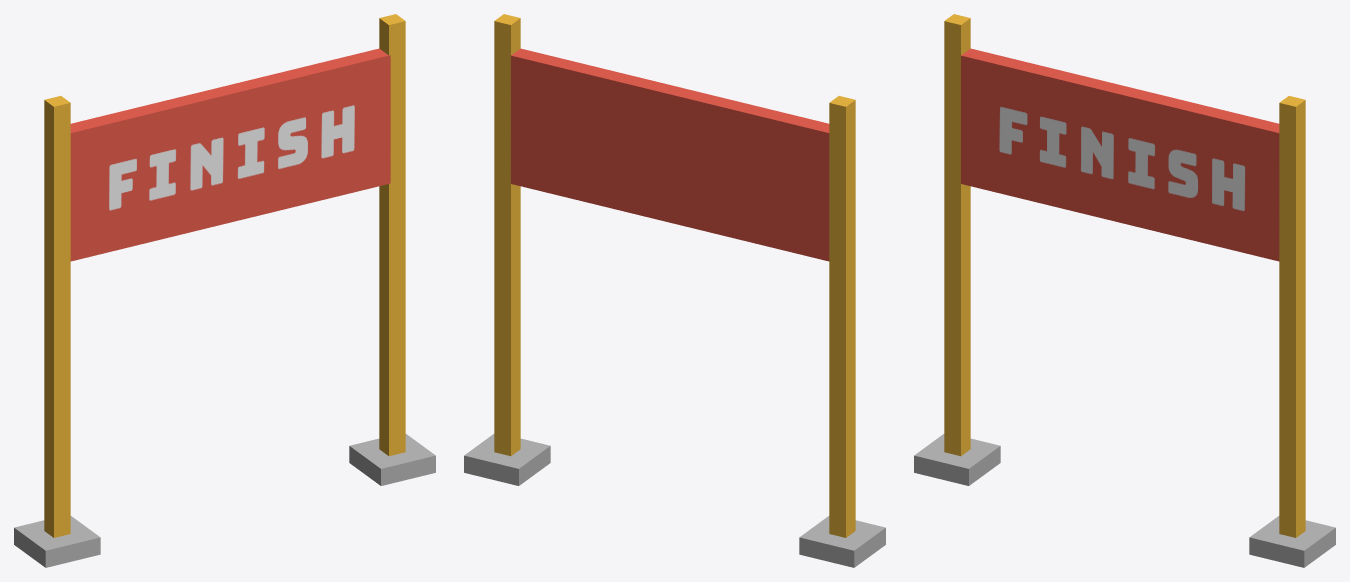
Rendered from uploads_files_3661170_gate.obj.
The picture shows the model from 3 angles, left to right: view 1: azimuth 30°, elevation 25°; view 2: azimuth 150°, elevation 25°; view 3: azimuth 330°, elevation 25°; orthographic projection.
Visible parts, largest first — view 1: Finish; view 2: Finish; view 3: Finish.
Boxes of the visible parts, x1,y1,x2,y2 form: Finish: [14, 14, 435, 567]; Finish: [464, 14, 885, 567]; Finish: [914, 14, 1335, 567].
Bounding box in the file's own units: 4.65 × 5.11 × 0.6542.
